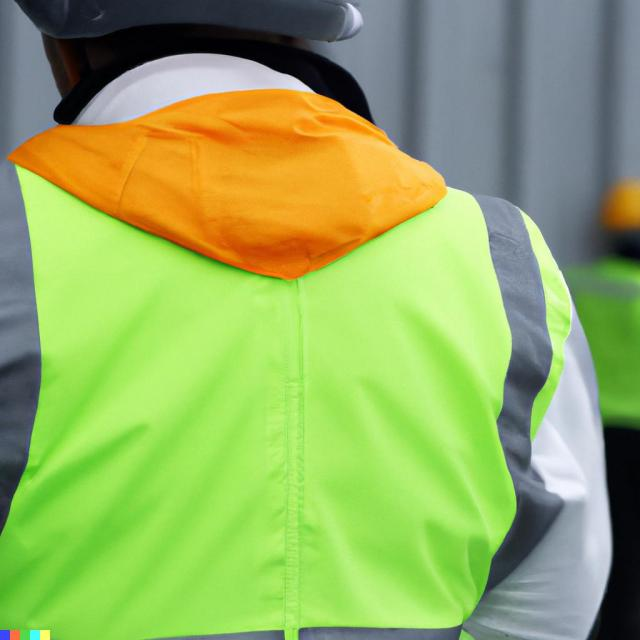Reflective-Jacket: (2, 49, 590, 640)
Safety-Helmet: (5, 0, 376, 46), (590, 166, 640, 244)
